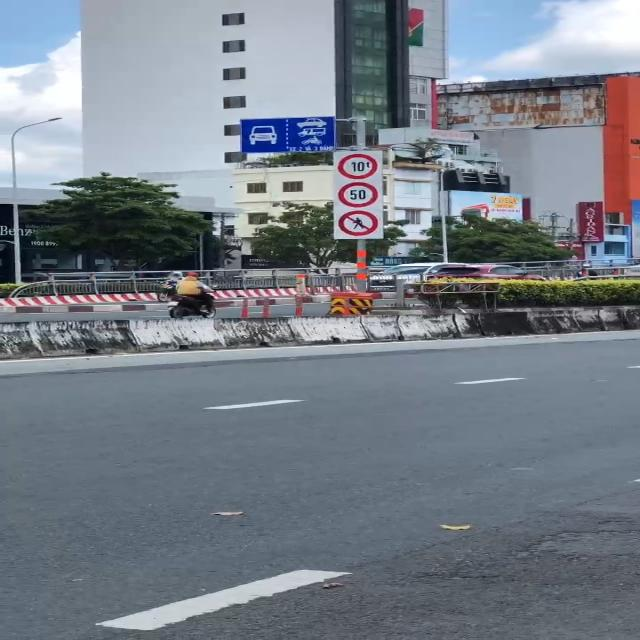Bien bao cam nguoi di bo: (336, 210, 384, 236)
Bien bao toc do toi da cho phep: (337, 182, 382, 208)
